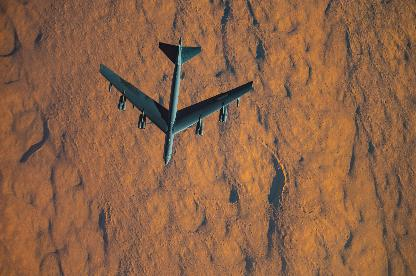B2: (98, 36, 252, 164)
